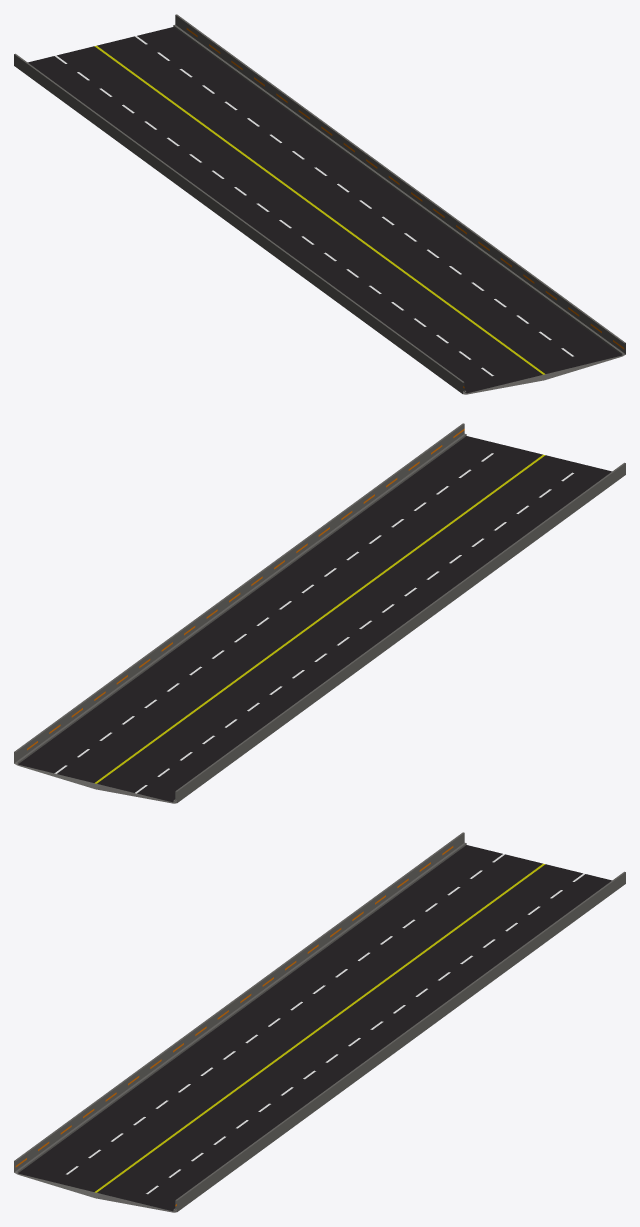
File: StreetStraight.fbx
3 views of the same model, one above another, from view 1: azimuth 30°, elevation 25°; view 2: azimuth 150°, elevation 25°; view 3: azimuth 330°, elevation 25° (orthographic).
Parts seen in each view (by area): view 1: Street, Barrier; view 2: Street, Barrier; view 3: Street, Barrier.
Boxes of the visible parts, left/top/right/bottom form: Street: left=28, top=27, right=621, bottom=393; Barrier: left=14, top=14, right=625, bottom=394; Street: left=18, top=436, right=611, bottom=802; Barrier: left=14, top=423, right=625, bottom=803; Street: left=18, top=845, right=611, bottom=1211; Barrier: left=14, top=832, right=625, bottom=1212.
Bounding box in the file's own units: 7146 × 735 × 34068.
